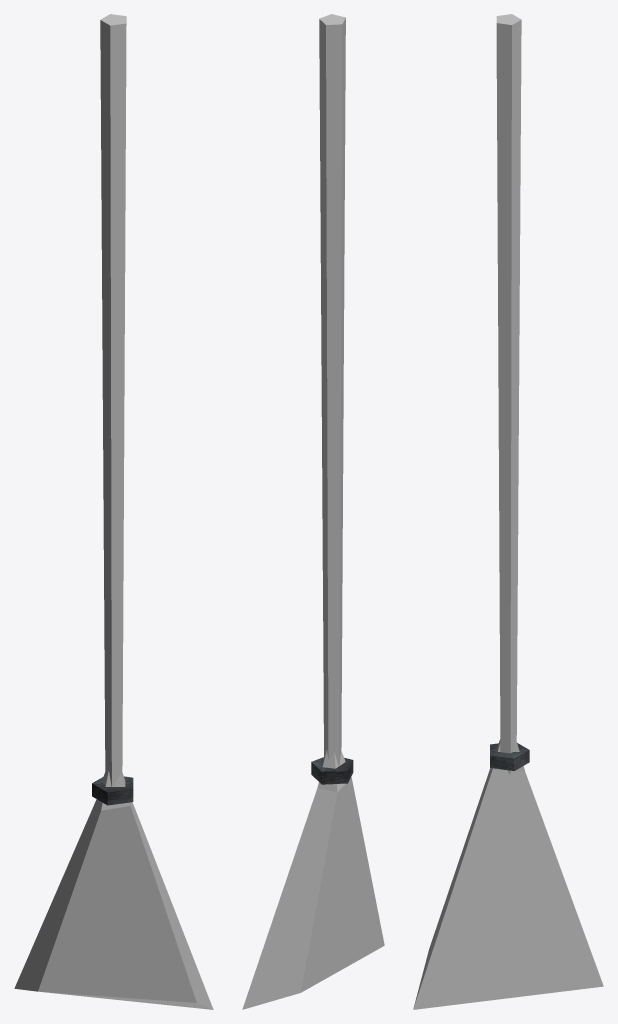
Rendered from broom.fbx.
3 views of the same model, side by side, from view 1: azimuth 90°, elevation 25°; view 2: azimuth 150°, elevation 25°; view 3: azimuth 270°, elevation 25° (orthographic). The views are drawn at different scales.
Visible parts, largest first — view 1: Cube, Cylinder; view 2: Cube, Cylinder; view 3: Cube, Cylinder.
Part boxes in pixels (x1,y1,x2,y2): Cube: (14,770,213,1009); Cylinder: (100,14,126,786); Cube: (242,750,384,1009); Cylinder: (319,14,345,766); Cube: (413,735,603,1009); Cylinder: (496,14,521,774).
Size of the model in its own units: 68.09 by 1013 by 181.
